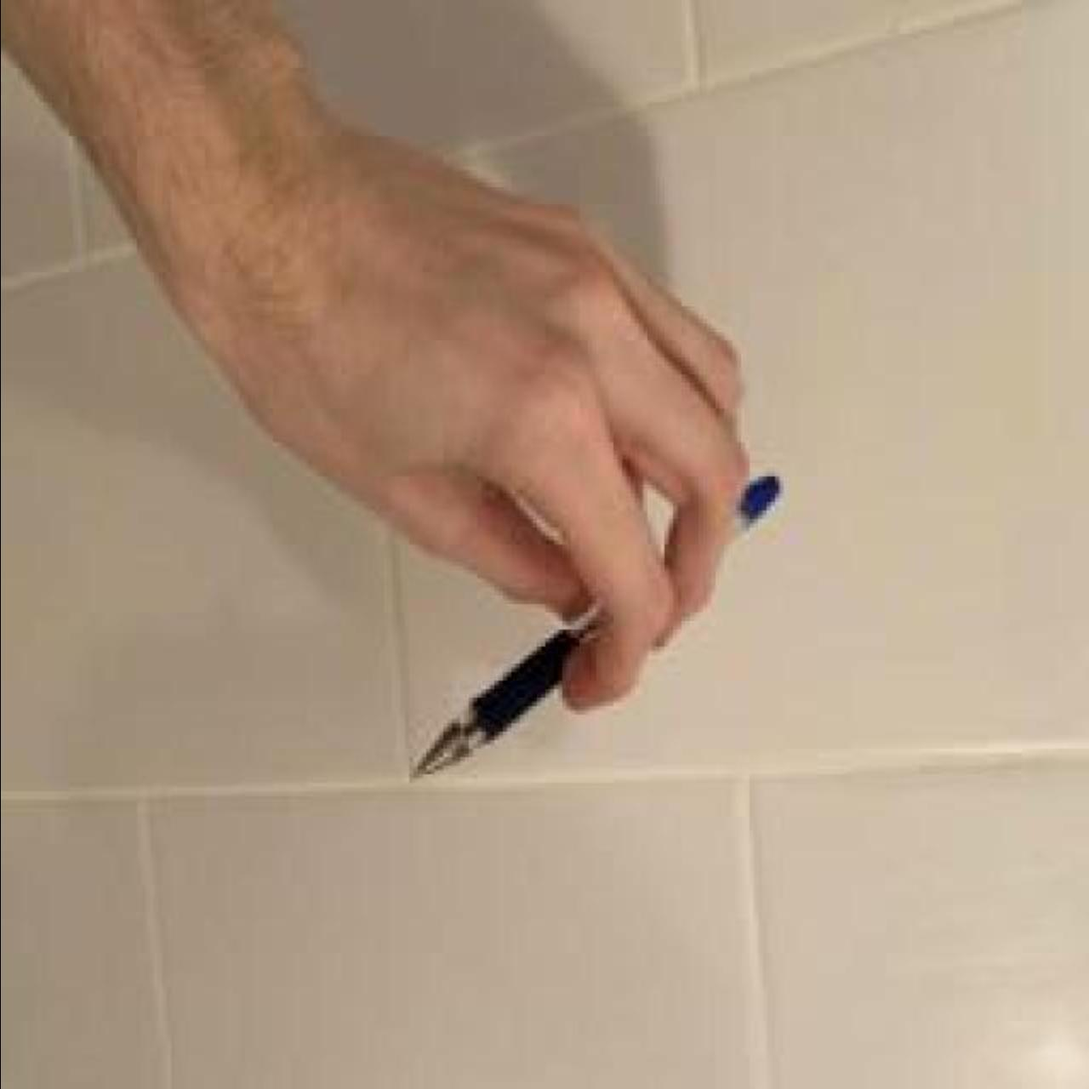pen: (408, 476, 783, 783)
